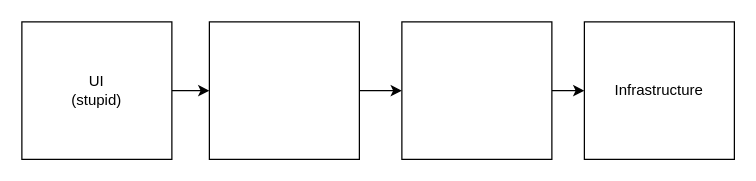
The diagram is 756 pixels wide and 181 high, and some of its shapes have lost their labels. The centre of each missing label's shape, as x and y in pixels:
"Application" belongs at (x=283, y=90).
"Domain" belongs at (x=476, y=90).
